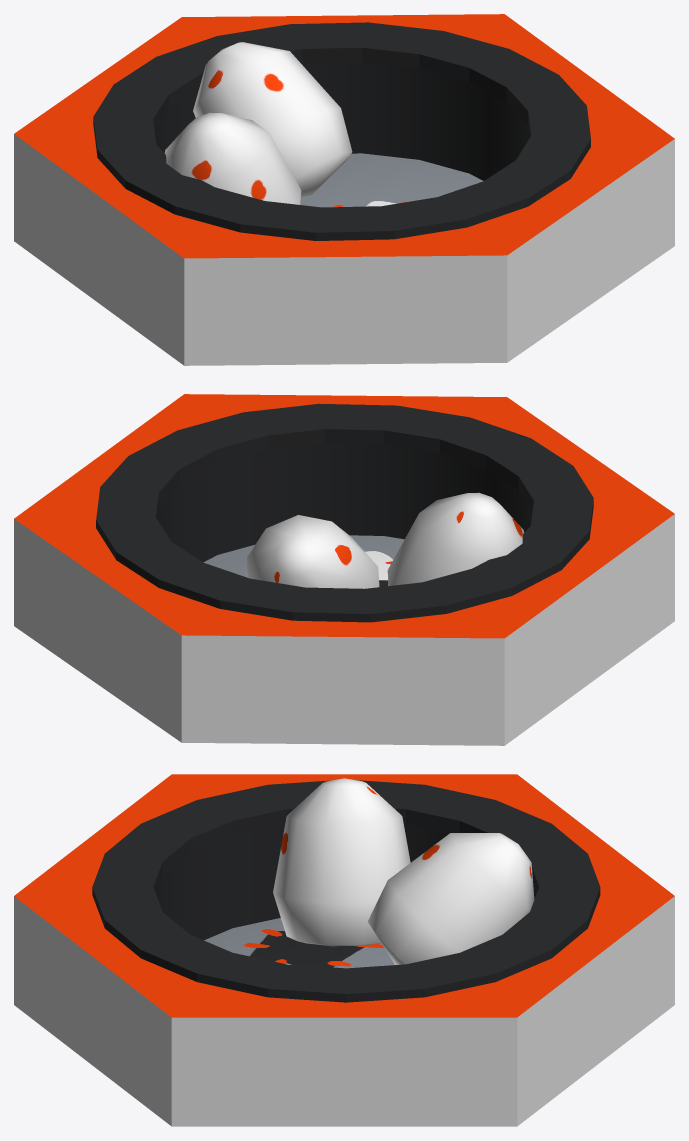
The model's file is egg basket.fbx.
3 renders of one model, top to bottom at view 1: azimuth 30°, elevation 25°; view 2: azimuth 150°, elevation 25°; view 3: azimuth 270°, elevation 25°, orthographic.
Visible parts, largest first — view 1: base, basket, egg1, egg2; view 2: base, basket, egg2, egg1; view 3: base, basket, egg2, egg1.
Boxes of the visible parts, x1,y1,x2,y2 form: base: (14, 14, 674, 365); basket: (93, 22, 590, 240); egg1: (193, 42, 352, 197); egg2: (164, 112, 301, 204); base: (14, 394, 674, 745); basket: (96, 403, 593, 622); egg2: (387, 492, 524, 585); egg1: (246, 515, 379, 588); base: (14, 774, 674, 1126); basket: (92, 780, 600, 1002); egg2: (273, 778, 410, 946); egg1: (368, 833, 534, 964).
Size of the model in its own units: 0.029 by 0.00888 by 0.0333.
